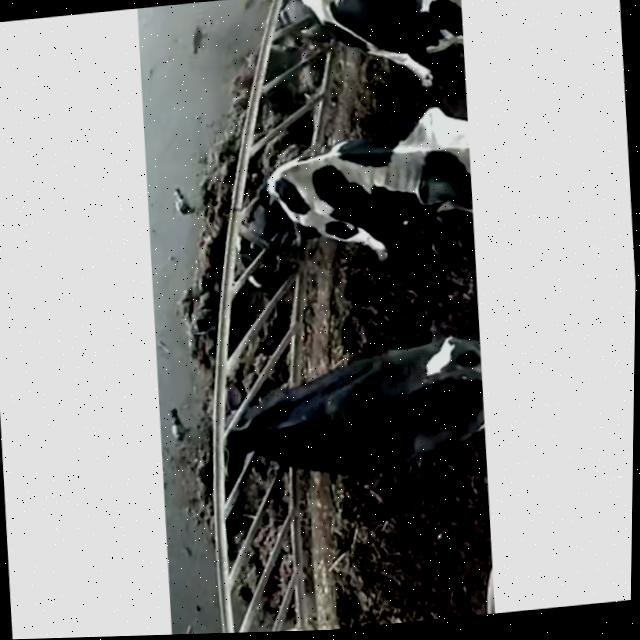eat: (171, 135, 362, 272), (161, 363, 338, 494), (210, 0, 415, 74)
